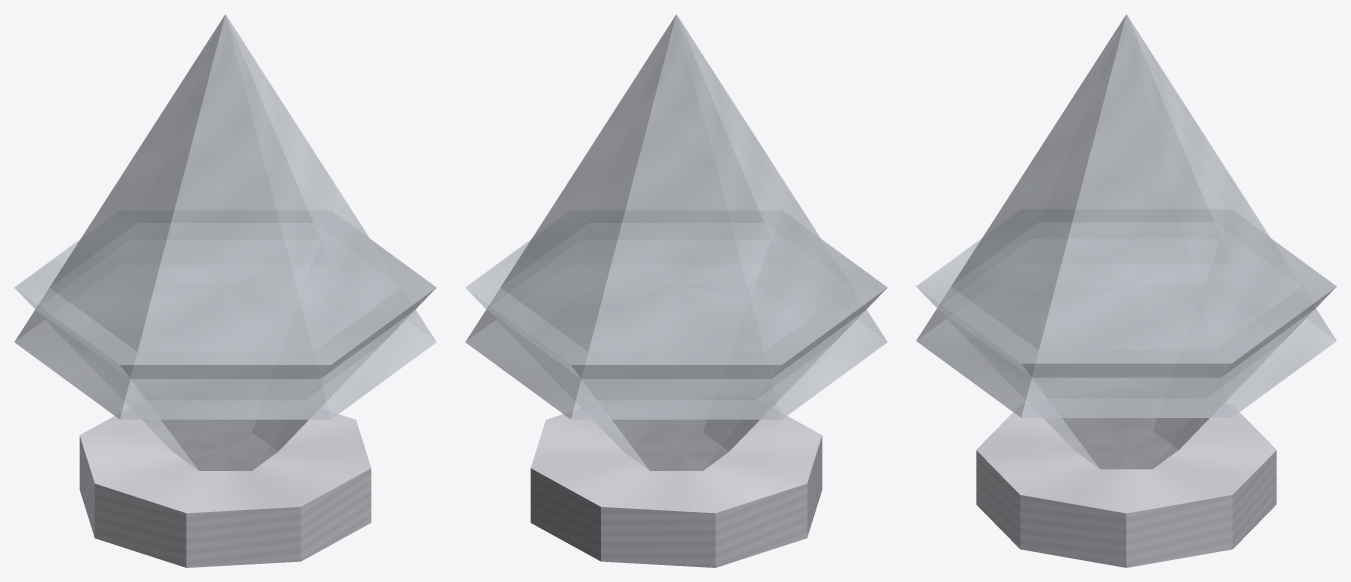
The model's file is choir-ward-crystal.glb.
3 views of the same model, side by side, from view 1: azimuth 30°, elevation 25°; view 2: azimuth 150°, elevation 25°; view 3: azimuth 270°, elevation 25° (orthographic).
Parts seen in each view (by area): view 1: wardcrystal-facet-top, wardcrystal-facet-bottom, wardcrystal-base; view 2: wardcrystal-facet-top, wardcrystal-facet-bottom, wardcrystal-base; view 3: wardcrystal-facet-top, wardcrystal-facet-bottom, wardcrystal-base.
Part boxes in pixels (box(x1,y1,x2,y2)): wardcrystal-facet-top: box(14, 14, 436, 419); wardcrystal-facet-bottom: box(14, 211, 436, 470); wardcrystal-base: box(79, 408, 371, 567); wardcrystal-facet-top: box(465, 14, 887, 419); wardcrystal-facet-bottom: box(465, 211, 887, 470); wardcrystal-base: box(530, 408, 822, 567); wardcrystal-facet-top: box(916, 14, 1336, 417); wardcrystal-facet-bottom: box(916, 210, 1336, 469); wardcrystal-base: box(976, 404, 1276, 567).
Size of the model in its own units: 0.2425 by 0.36 by 0.28.
Materials: 3 (3 with a texture image).
